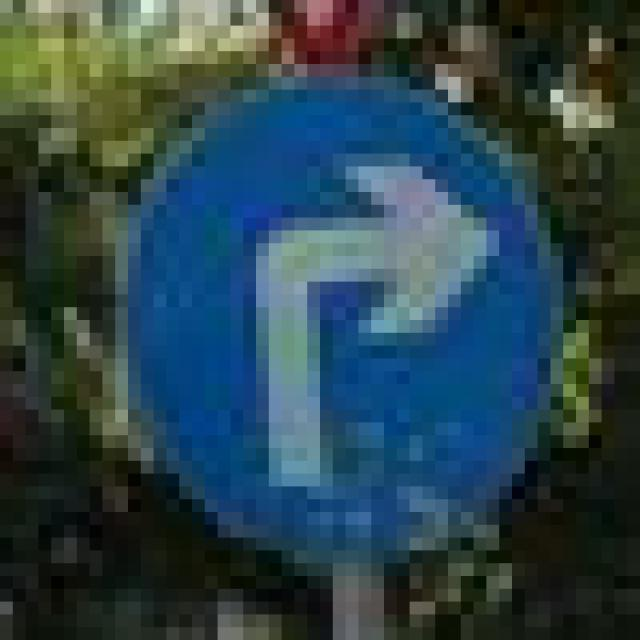railway_crossing: (102, 52, 550, 550)
